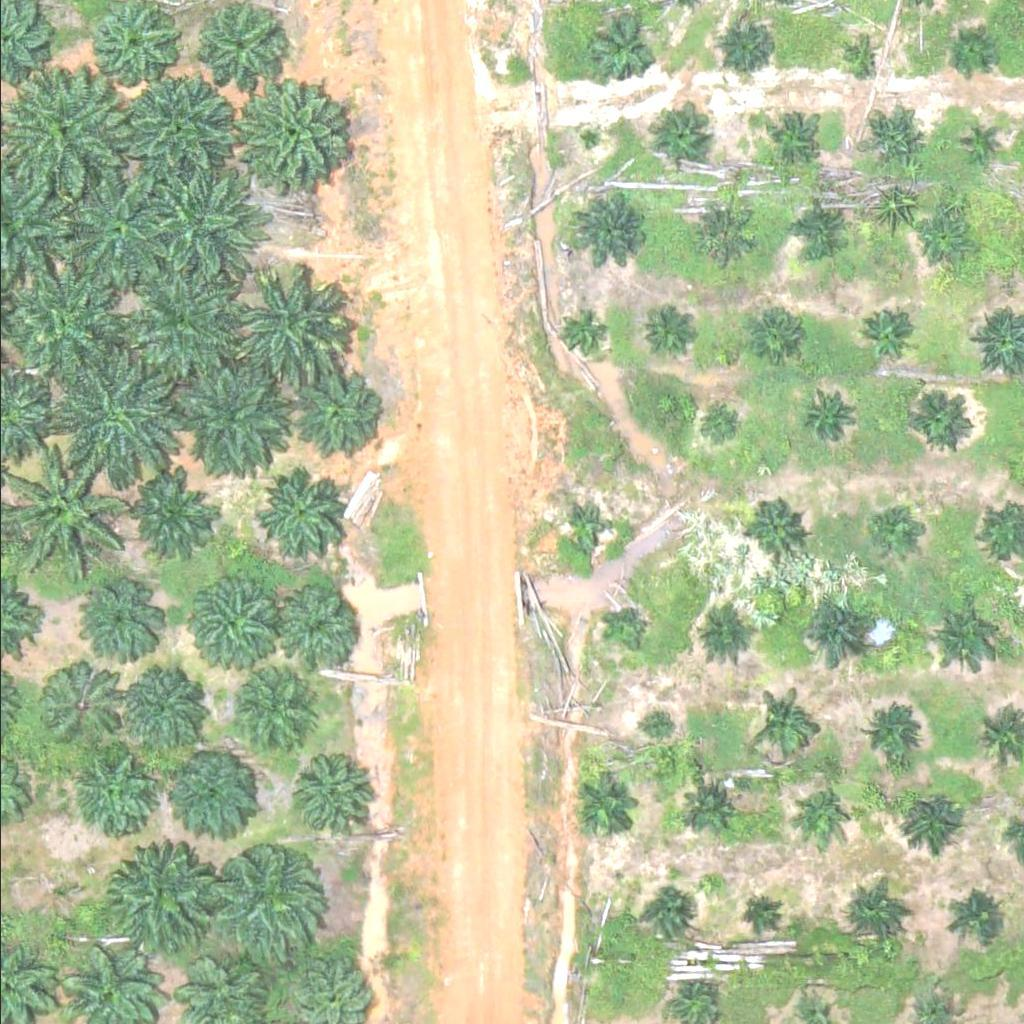Kelapa_Sawit: (228, 266, 354, 391), (120, 258, 246, 383), (51, 169, 177, 294), (131, 163, 257, 288), (111, 67, 237, 192), (49, 348, 175, 473), (202, 842, 328, 967), (1, 78, 126, 203), (171, 352, 296, 477), (237, 72, 351, 185), (109, 854, 210, 954), (183, 576, 271, 664), (68, 581, 156, 669), (129, 473, 218, 560), (166, 747, 255, 834), (275, 579, 363, 666), (121, 666, 209, 753), (91, 4, 179, 91), (190, 3, 278, 90), (285, 370, 373, 457), (259, 468, 347, 555), (40, 661, 128, 748), (229, 669, 317, 756), (286, 755, 374, 842), (59, 752, 147, 839), (842, 695, 918, 770), (923, 598, 999, 673), (570, 191, 646, 266), (583, 5, 659, 80), (740, 687, 816, 762), (792, 596, 867, 671), (866, 104, 929, 167), (904, 385, 967, 448), (797, 390, 860, 453), (647, 105, 710, 168), (576, 777, 639, 840), (686, 604, 749, 667), (681, 776, 744, 839), (738, 496, 801, 559), (844, 886, 907, 948), (944, 885, 1007, 947), (899, 789, 961, 852), (688, 204, 751, 266), (719, 12, 781, 74), (913, 210, 964, 260), (862, 305, 913, 355), (749, 309, 800, 359), (600, 609, 651, 659), (558, 503, 609, 553), (691, 402, 742, 452), (792, 205, 842, 255), (802, 785, 852, 835), (869, 504, 919, 554), (639, 304, 689, 354), (769, 109, 819, 159), (639, 886, 689, 936), (558, 310, 608, 360), (944, 25, 994, 75), (635, 704, 673, 742), (835, 41, 873, 79), (738, 890, 776, 927), (960, 120, 998, 157)
